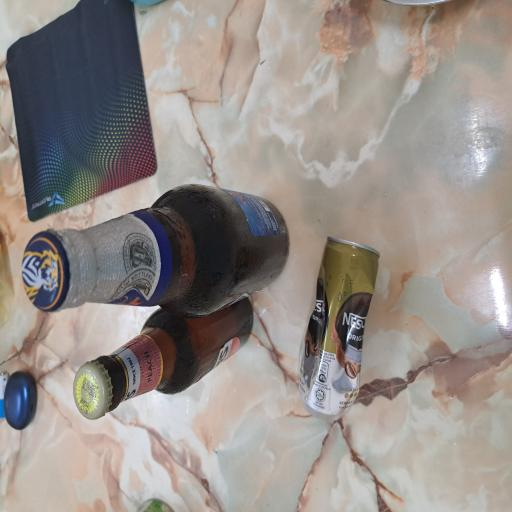can: (74, 400, 208, 506)
glass bottle: (146, 29, 248, 386), (70, 98, 161, 337)
